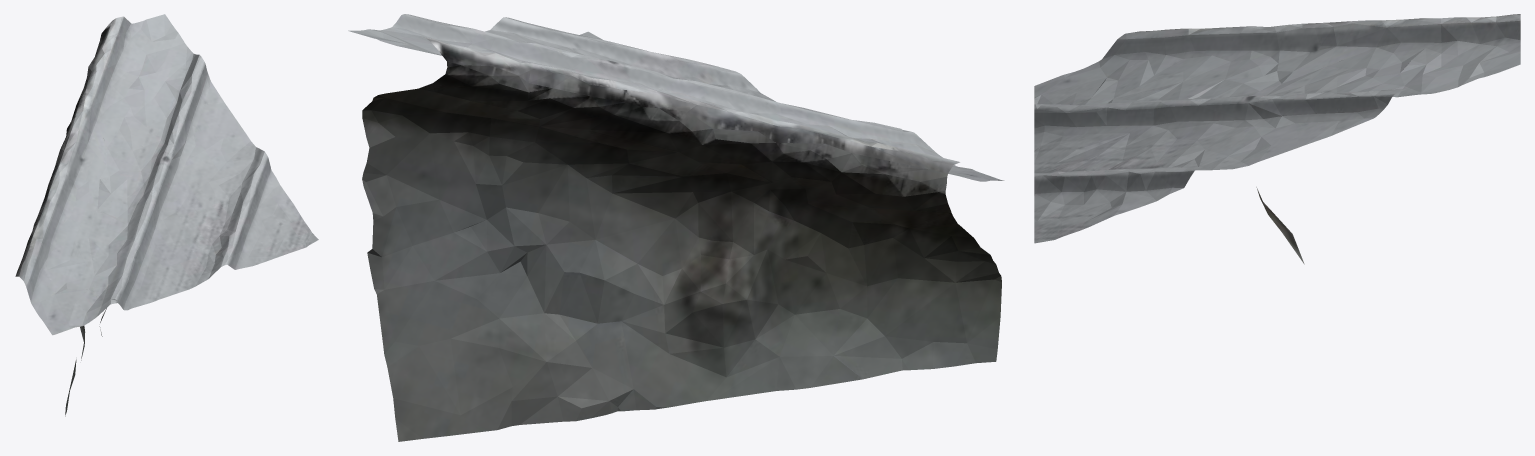
3 views of the same model, side by side, from view 1: azimuth 30°, elevation 25°; view 2: azimuth 150°, elevation 25°; view 3: azimuth 270°, elevation 25° (orthographic). The views are drawn at different scales.
Size of the model in its own units: 0.8373 by 0.7881 by 0.8374.
4 materials, 4 textured.
